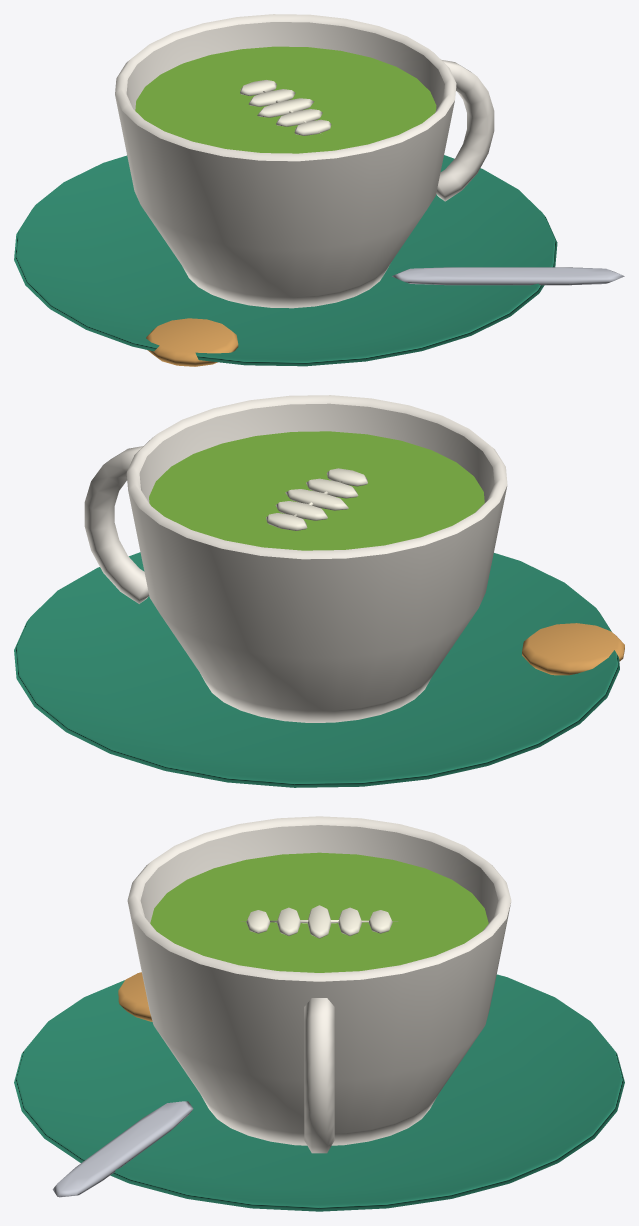
The picture shows the model from 3 angles, top to bottom: view 1: azimuth 30°, elevation 25°; view 2: azimuth 150°, elevation 25°; view 3: azimuth 270°, elevation 25°; orthographic projection. The views are drawn at different scales.
Visible parts, largest first — view 1: saucer, cup_outer, matcha, cup_inner, cup_rim, spoon, handle, biscuit, latte_leaf (×3); view 2: saucer, cup_outer, matcha, cup_inner, cup_rim, handle, biscuit, latte_leaf (×5); view 3: saucer, cup_outer, matcha, cup_inner, cup_rim, handle, spoon, biscuit, latte_leaf.
Boxes of the visible parts, <box> form: saucer: <box>14,155,557,366</box>; cup_outer: <box>115,95,454,308</box>; matcha: <box>135,46,436,153</box>; cup_inner: <box>126,22,444,110</box>; cup_rim: <box>115,14,456,161</box>; spoon: <box>392,267,624,285</box>; handle: <box>436,60,494,201</box>; biscuit: <box>146,318,238,366</box>; latte_leaf (×3): <box>248,89,322,126</box>; saucer: <box>14,552,619,787</box>; cup_outer: <box>128,486,507,722</box>; matcha: <box>149,431,484,550</box>; cup_inner: <box>139,403,494,502</box>; cup_rim: <box>126,395,507,559</box>; handle: <box>84,446,149,603</box>; biscuit: <box>522,623,624,675</box>; latte_leaf (×5): <box>266,468,367,530</box>; saucer: <box>14,974,624,1211</box>; cup_outer: <box>128,903,510,1145</box>; matcha: <box>150,852,488,972</box>; cup_inner: <box>140,825,498,923</box>; cup_rim: <box>127,816,511,981</box>; handle: <box>304,998,334,1153</box>; spoon: <box>52,1101,193,1197</box>; biscuit: <box>118,972,152,1021</box>; latte_leaf: <box>307,905,331,938</box>.
Size of the model in its own units: 0.14 by 0.0555 by 0.14.
